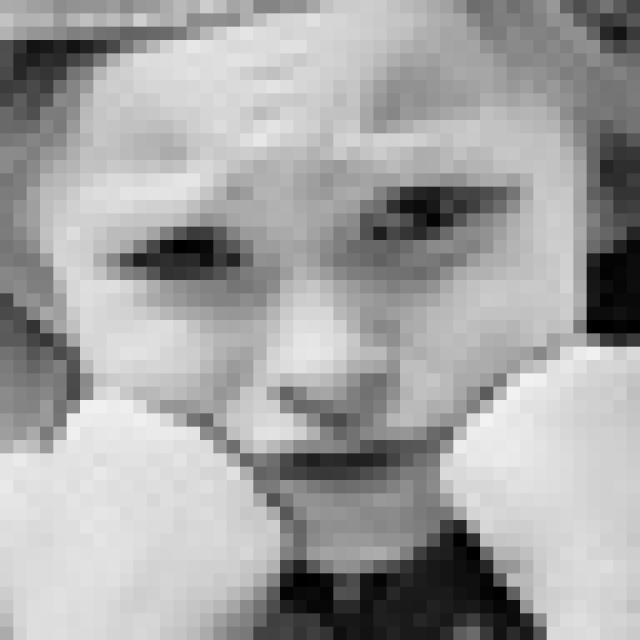sad: (89, 93, 535, 526)
